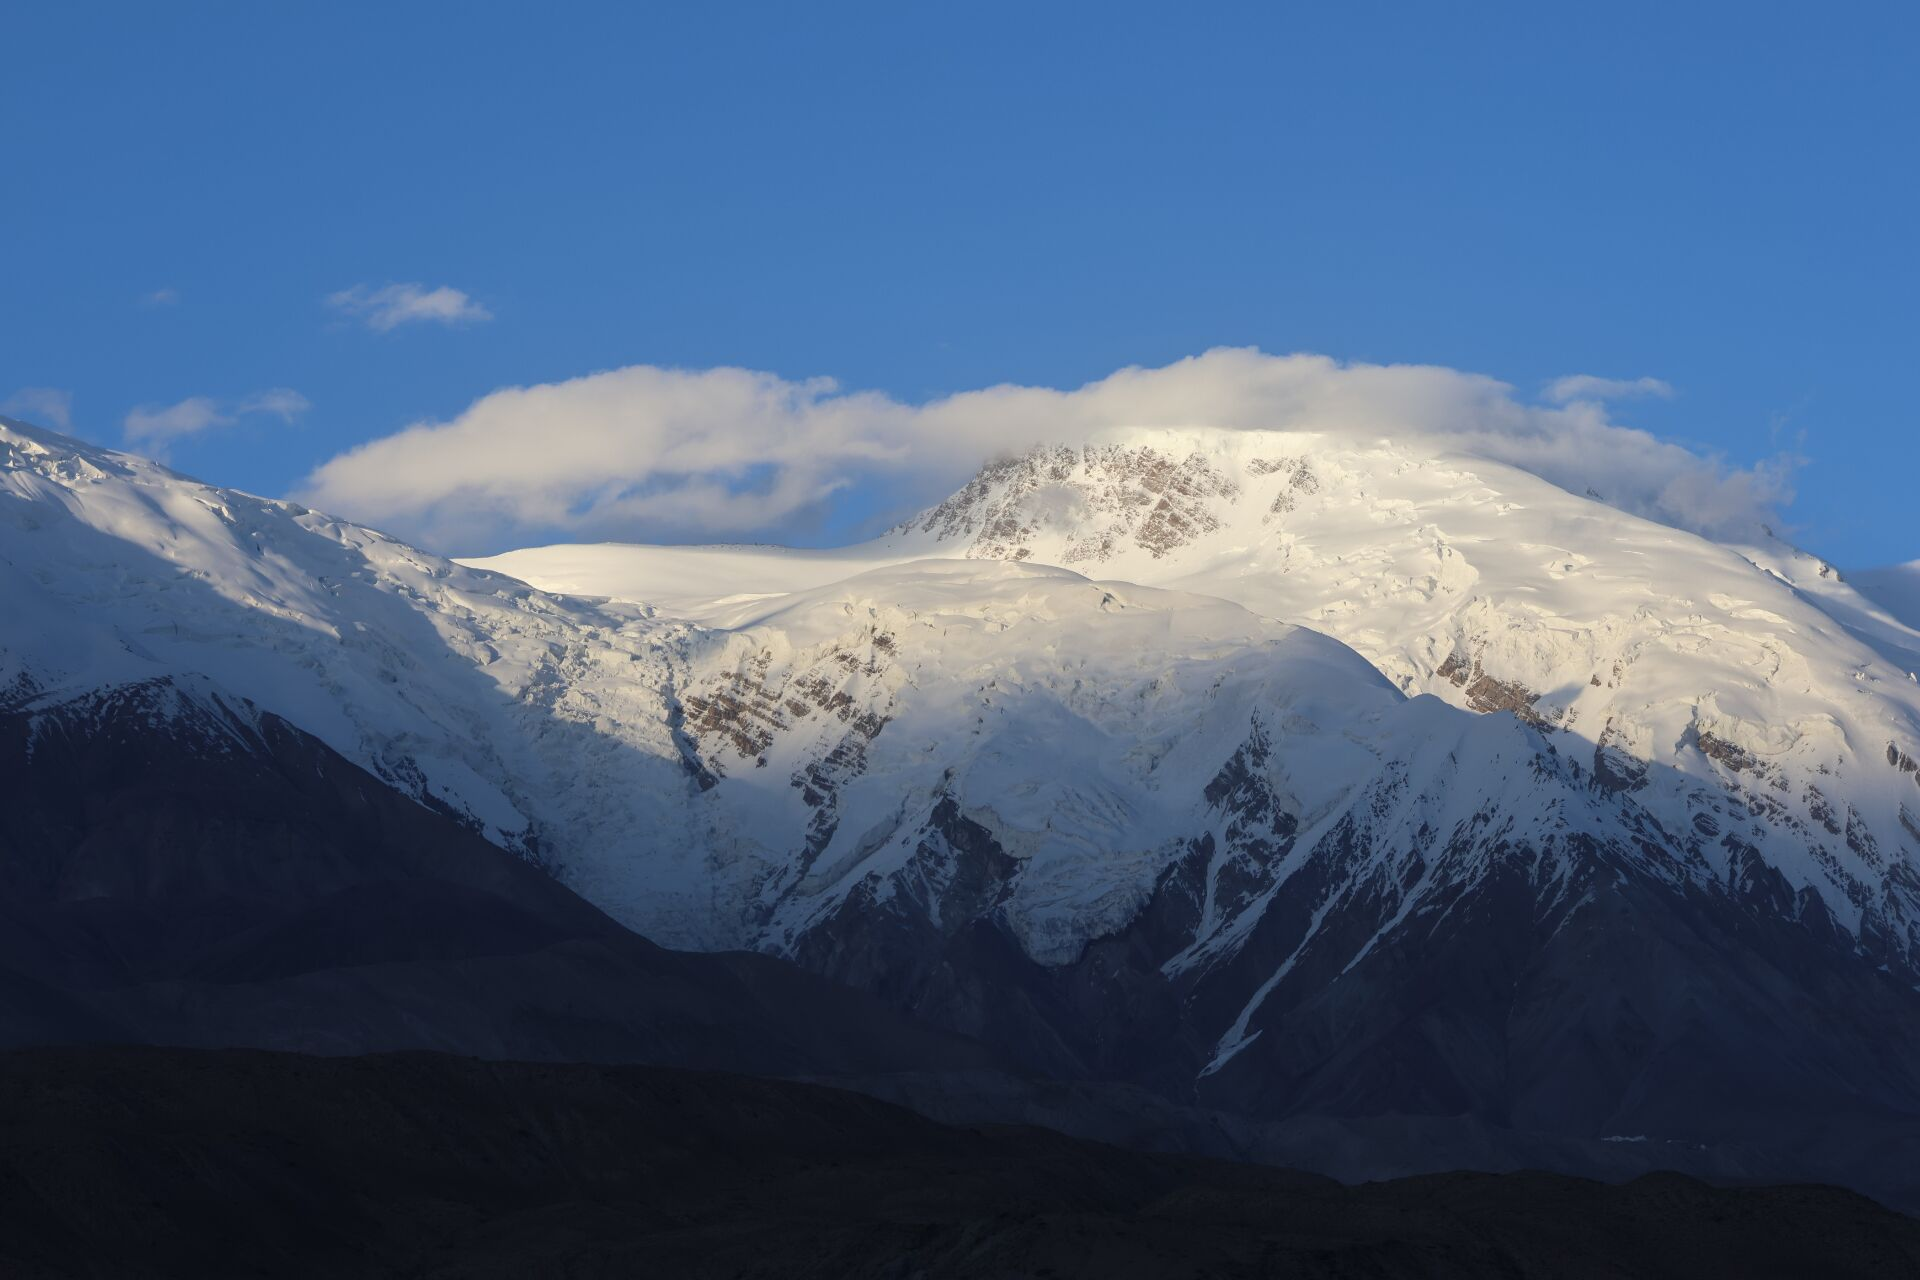Stratus: (266, 253, 1834, 531)
